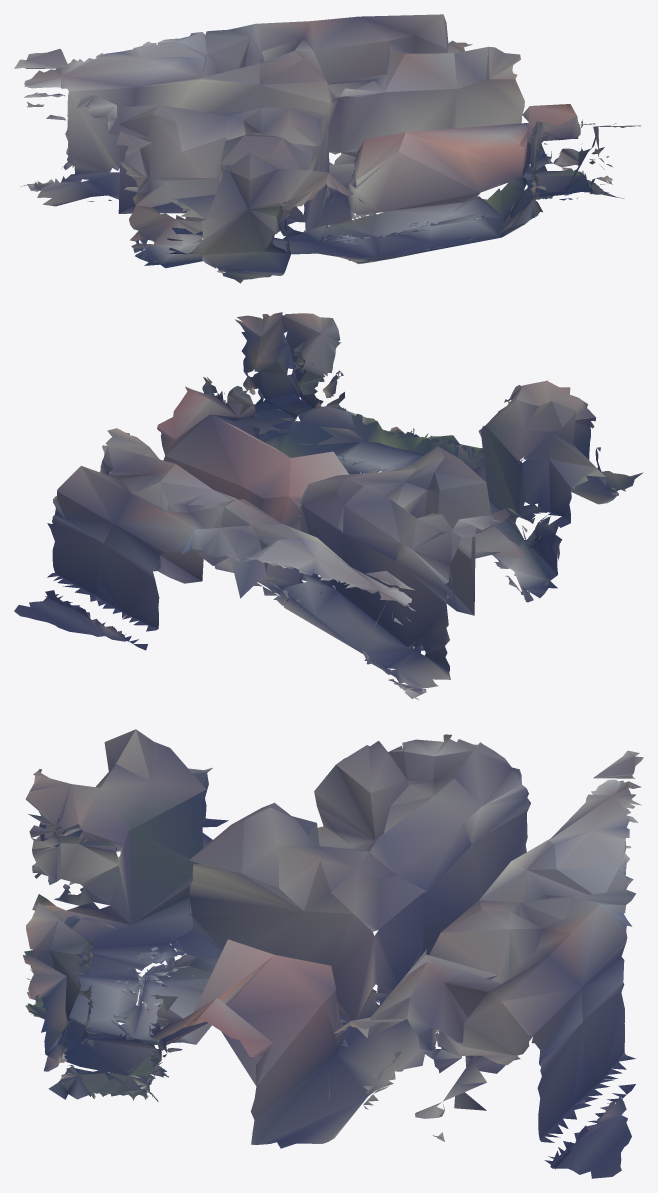
3 renders of one model, top to bottom at view 1: azimuth 30°, elevation 25°; view 2: azimuth 150°, elevation 25°; view 3: azimuth 270°, elevation 25°, orthographic. The views are drawn at different scales.
Size of the model in its own units: 110 by 41.14 by 108.
